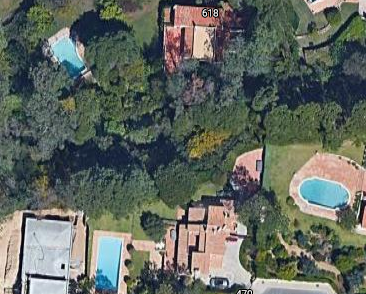pool: (300, 179, 343, 208), (97, 238, 119, 288), (52, 42, 85, 72)
